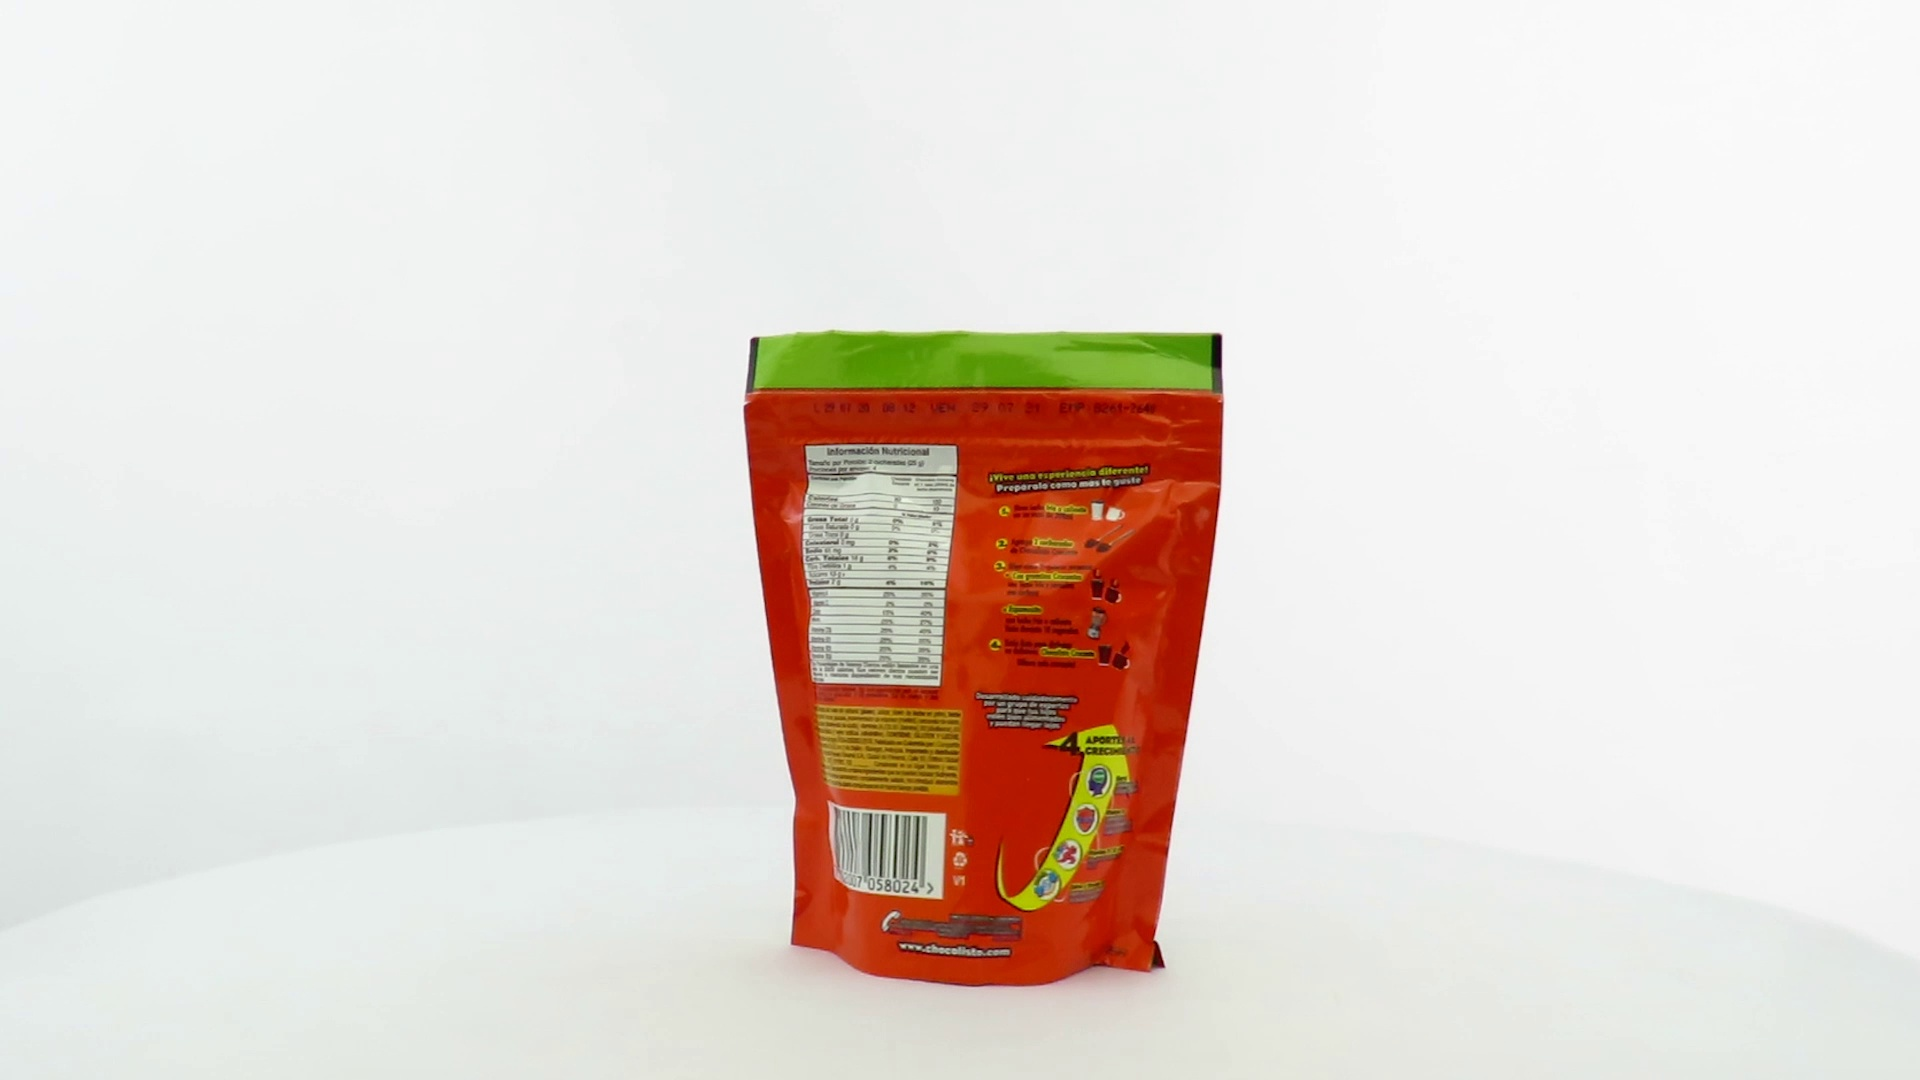COL0170102DYP10000: (738, 324, 1230, 993)
